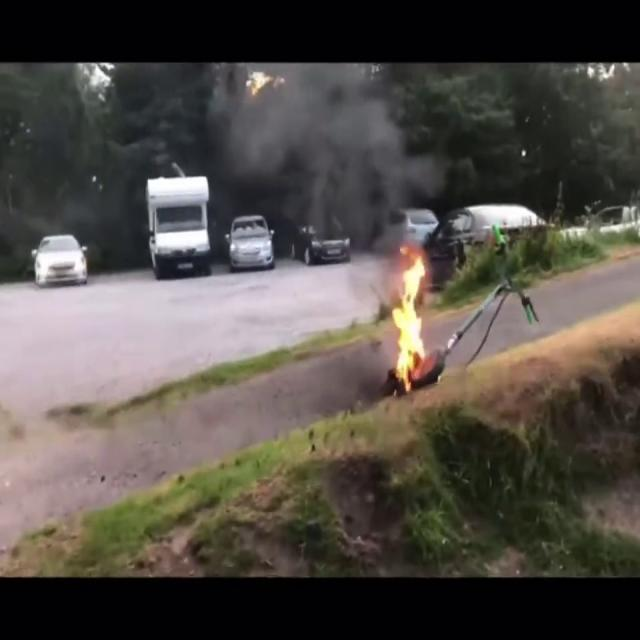Fire: (388, 245, 431, 388)
Smoke: (207, 63, 440, 252)
